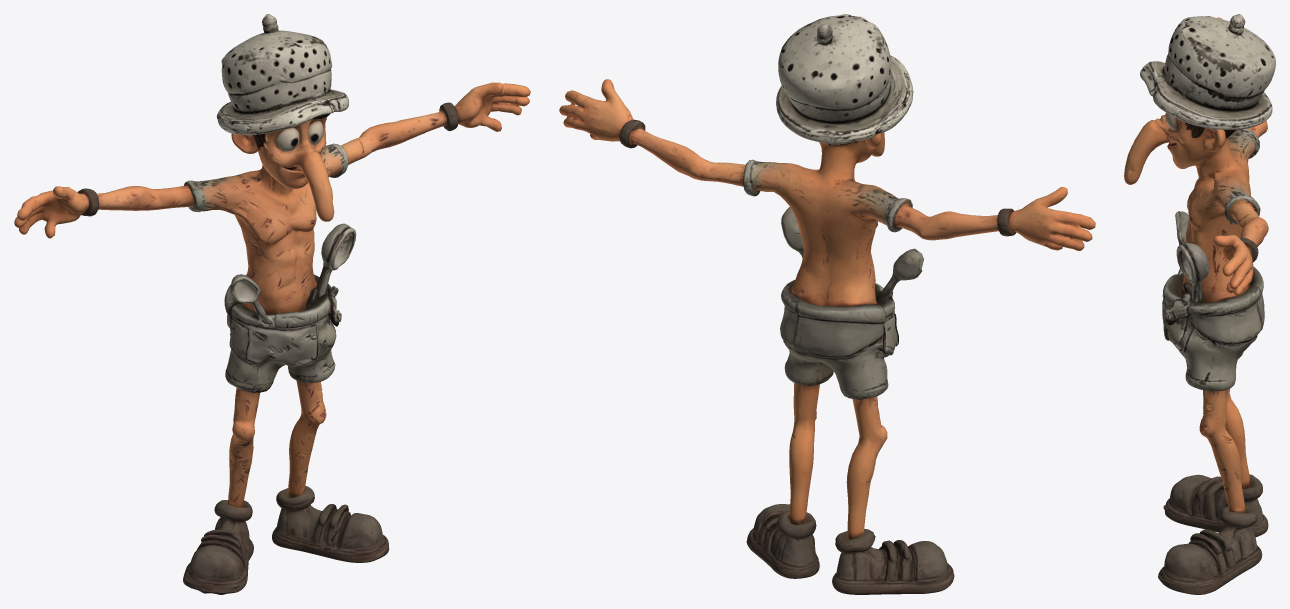
Rendered from scraps.glb.
The picture shows the model from 3 angles, left to right: view 1: azimuth 30°, elevation 25°; view 2: azimuth 150°, elevation 25°; view 3: azimuth 270°, elevation 25°; orthographic projection. The views are drawn at different scales.
Parts seen in each view (by area): view 1: tripo_node_f465e8be-84d4-49e9-91b2-94e0af206665; view 2: tripo_node_f465e8be-84d4-49e9-91b2-94e0af206665; view 3: tripo_node_f465e8be-84d4-49e9-91b2-94e0af206665.
Boxes of the visible parts, x1,y1,x2,y2 form: tripo_node_f465e8be-84d4-49e9-91b2-94e0af206665: (14,14,530,594); tripo_node_f465e8be-84d4-49e9-91b2-94e0af206665: (559,14,1095,594); tripo_node_f465e8be-84d4-49e9-91b2-94e0af206665: (1124,14,1275,594).
Bounding box in the file's own units: 0.9792 × 0.9785 × 0.2508.
Materials: 1 (1 with a texture image).
